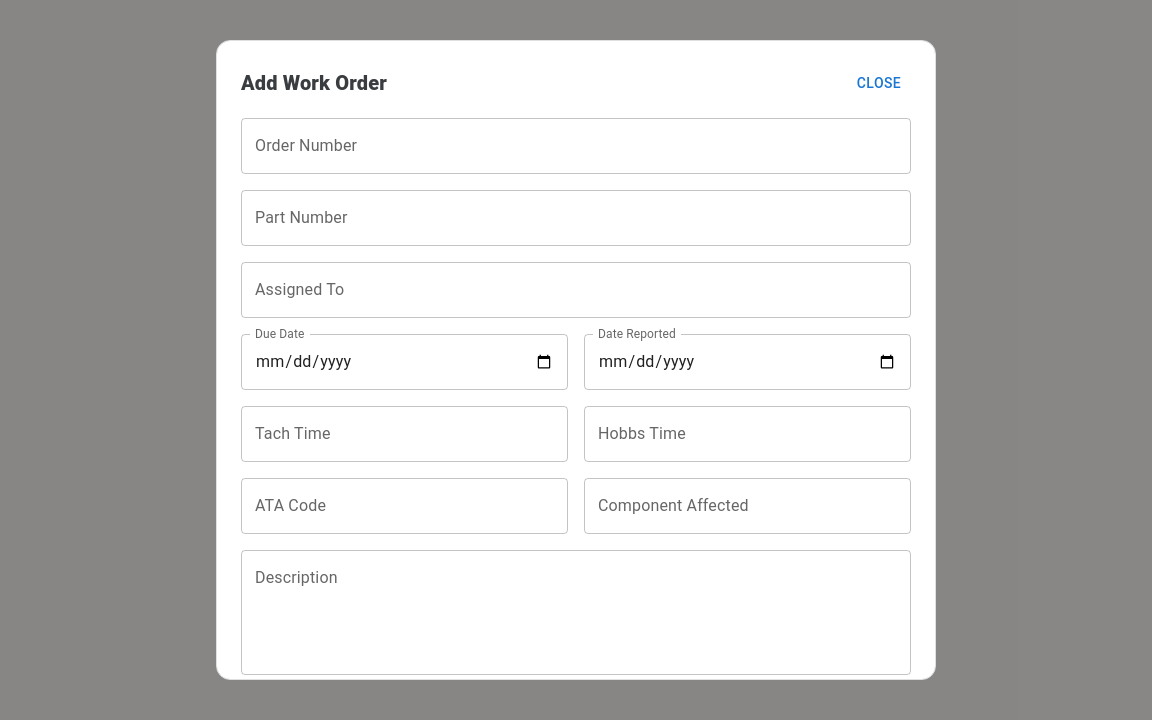
Scenario: AddWorkOrderForm › Form Validation › should show error for missing assigned to field
Type "WO-001" into the field labelled "Order Number".
click(576, 146); type("WO-001")  # box left=241, top=118, right=911, bottom=174
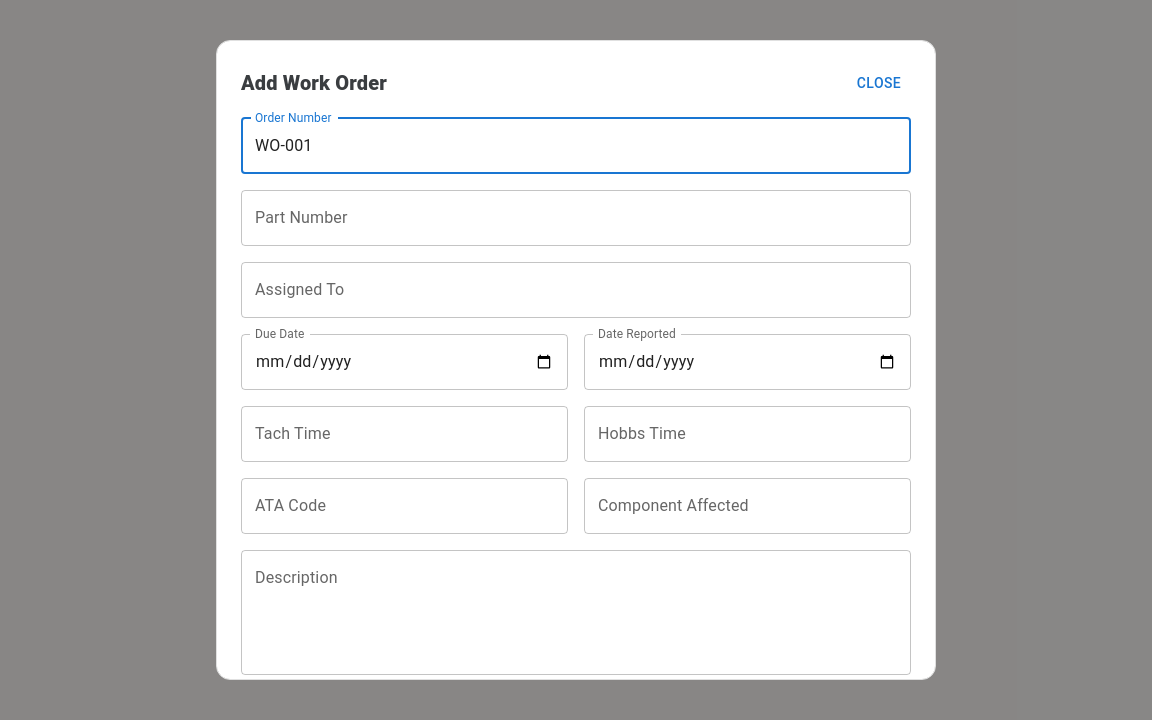
Type "PN-12345" into the field labelled "Part Number".
click(576, 218); type("PN-12345")  # box left=241, top=190, right=911, bottom=246
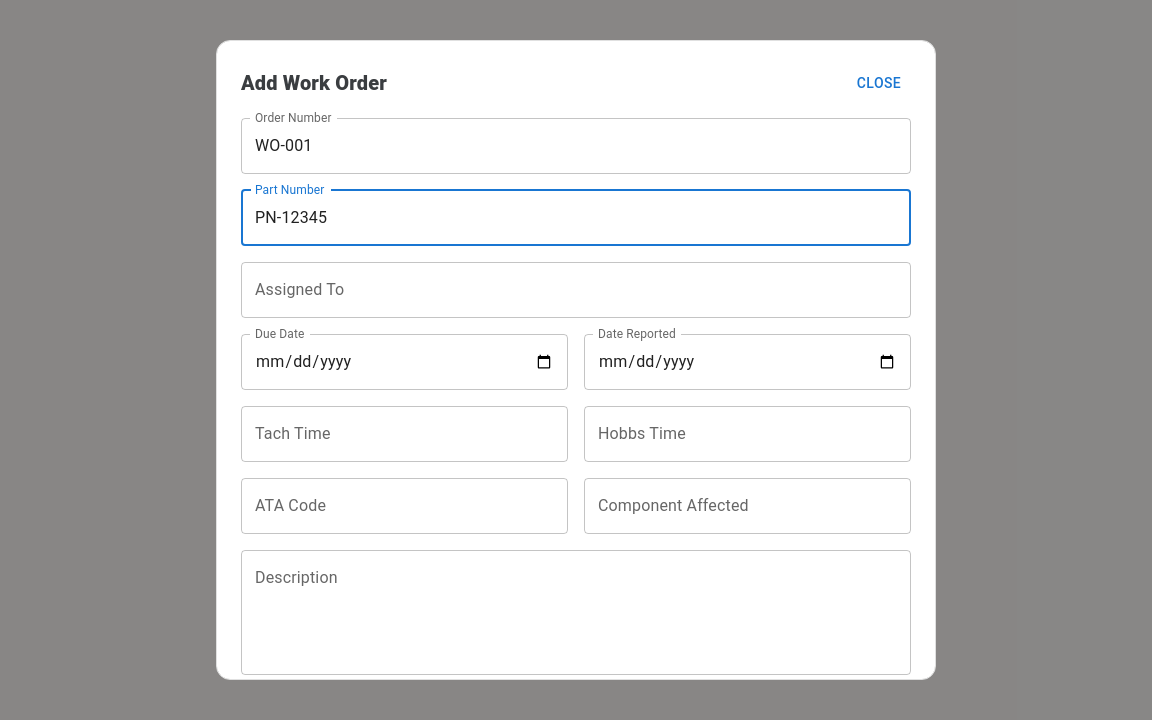
Type "Test description" into the text box labelled "Description".
click(576, 612); type("Test description")  # box left=255, top=566, right=897, bottom=658
(page scrolled)
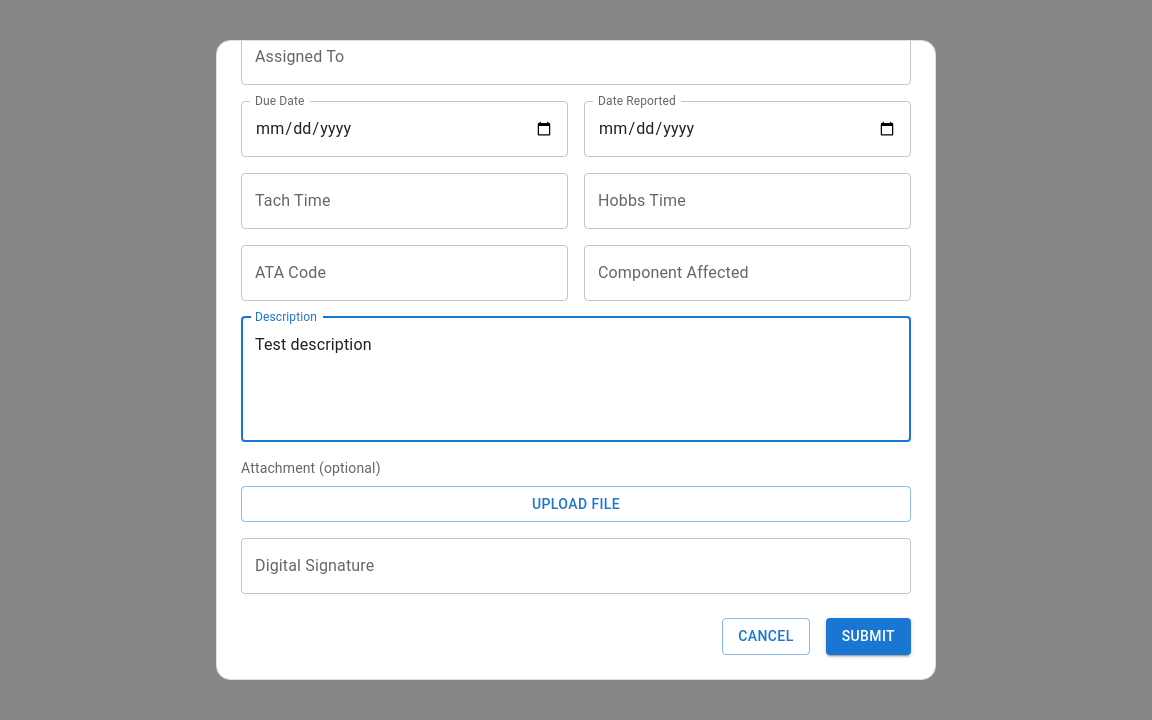
Click the button "Submit".
click(868, 636)  # box left=826, top=618, right=911, bottom=654
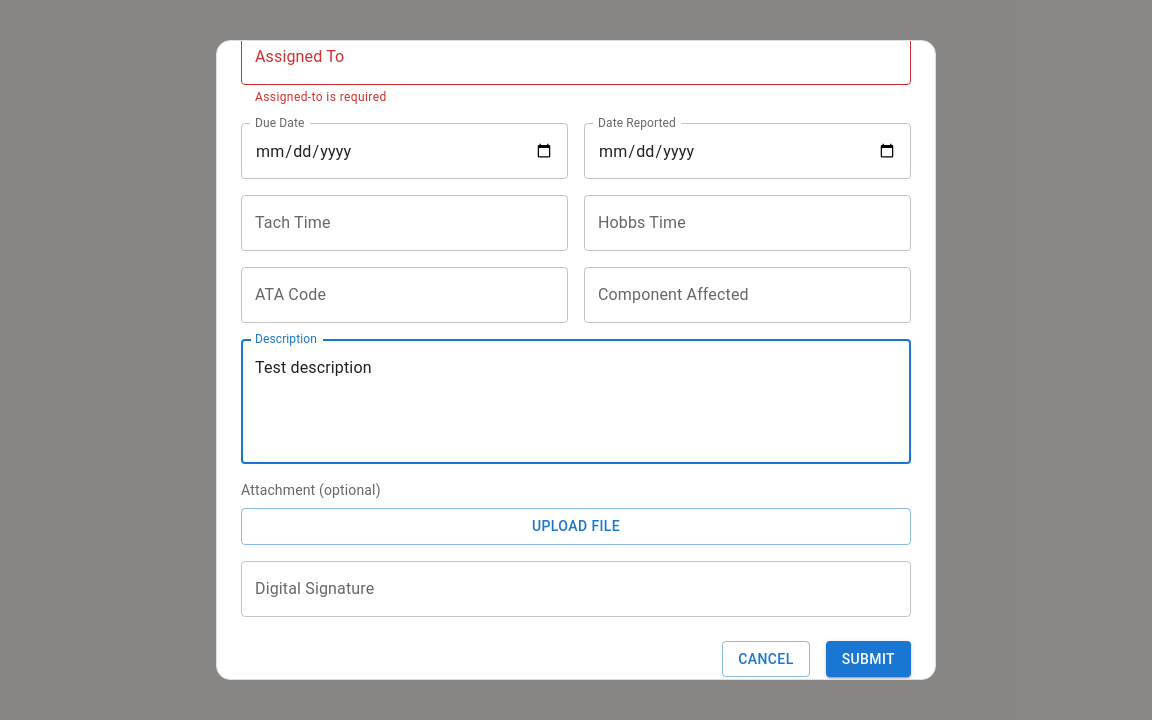
Now the text "Assigned-to is required" is shown, box left=255, top=90, right=387, bottom=104
